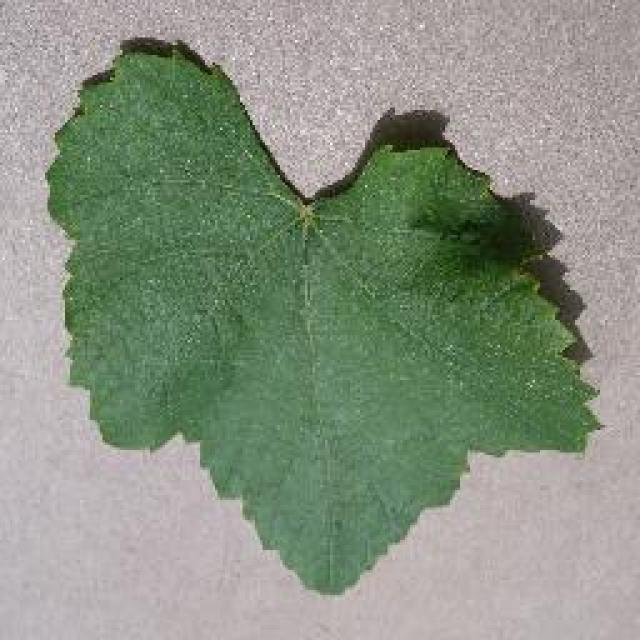Grape___healthy: (37, 34, 612, 604)
